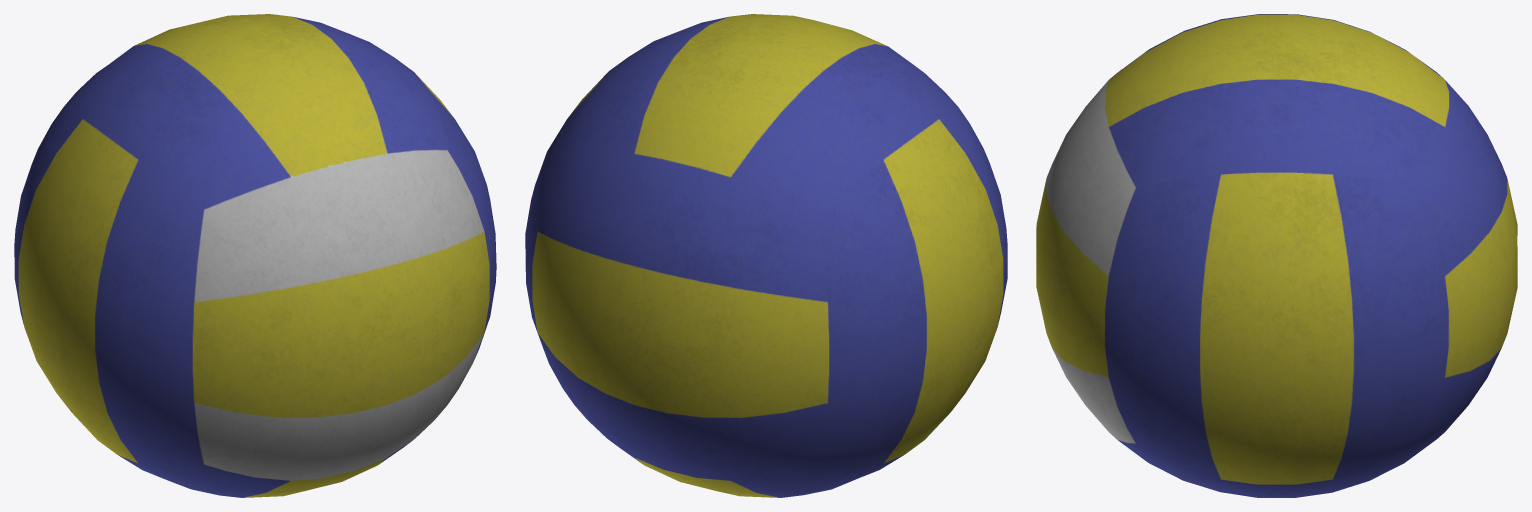
File: volleyball.fbx
The picture shows the model from 3 angles, left to right: view 1: azimuth 30°, elevation 25°; view 2: azimuth 150°, elevation 25°; view 3: azimuth 270°, elevation 25°; orthographic projection.
Visible parts, largest first — view 1: volleyball; view 2: volleyball; view 3: volleyball.
Boxes of the visible parts, x1,y1,x2,y2 form: volleyball: (14, 14, 496, 497); volleyball: (525, 14, 1007, 497); volleyball: (1036, 14, 1517, 497).
Size of the model in its own units: 23.99 by 24 by 24.01.
1 material, 1 textured.
